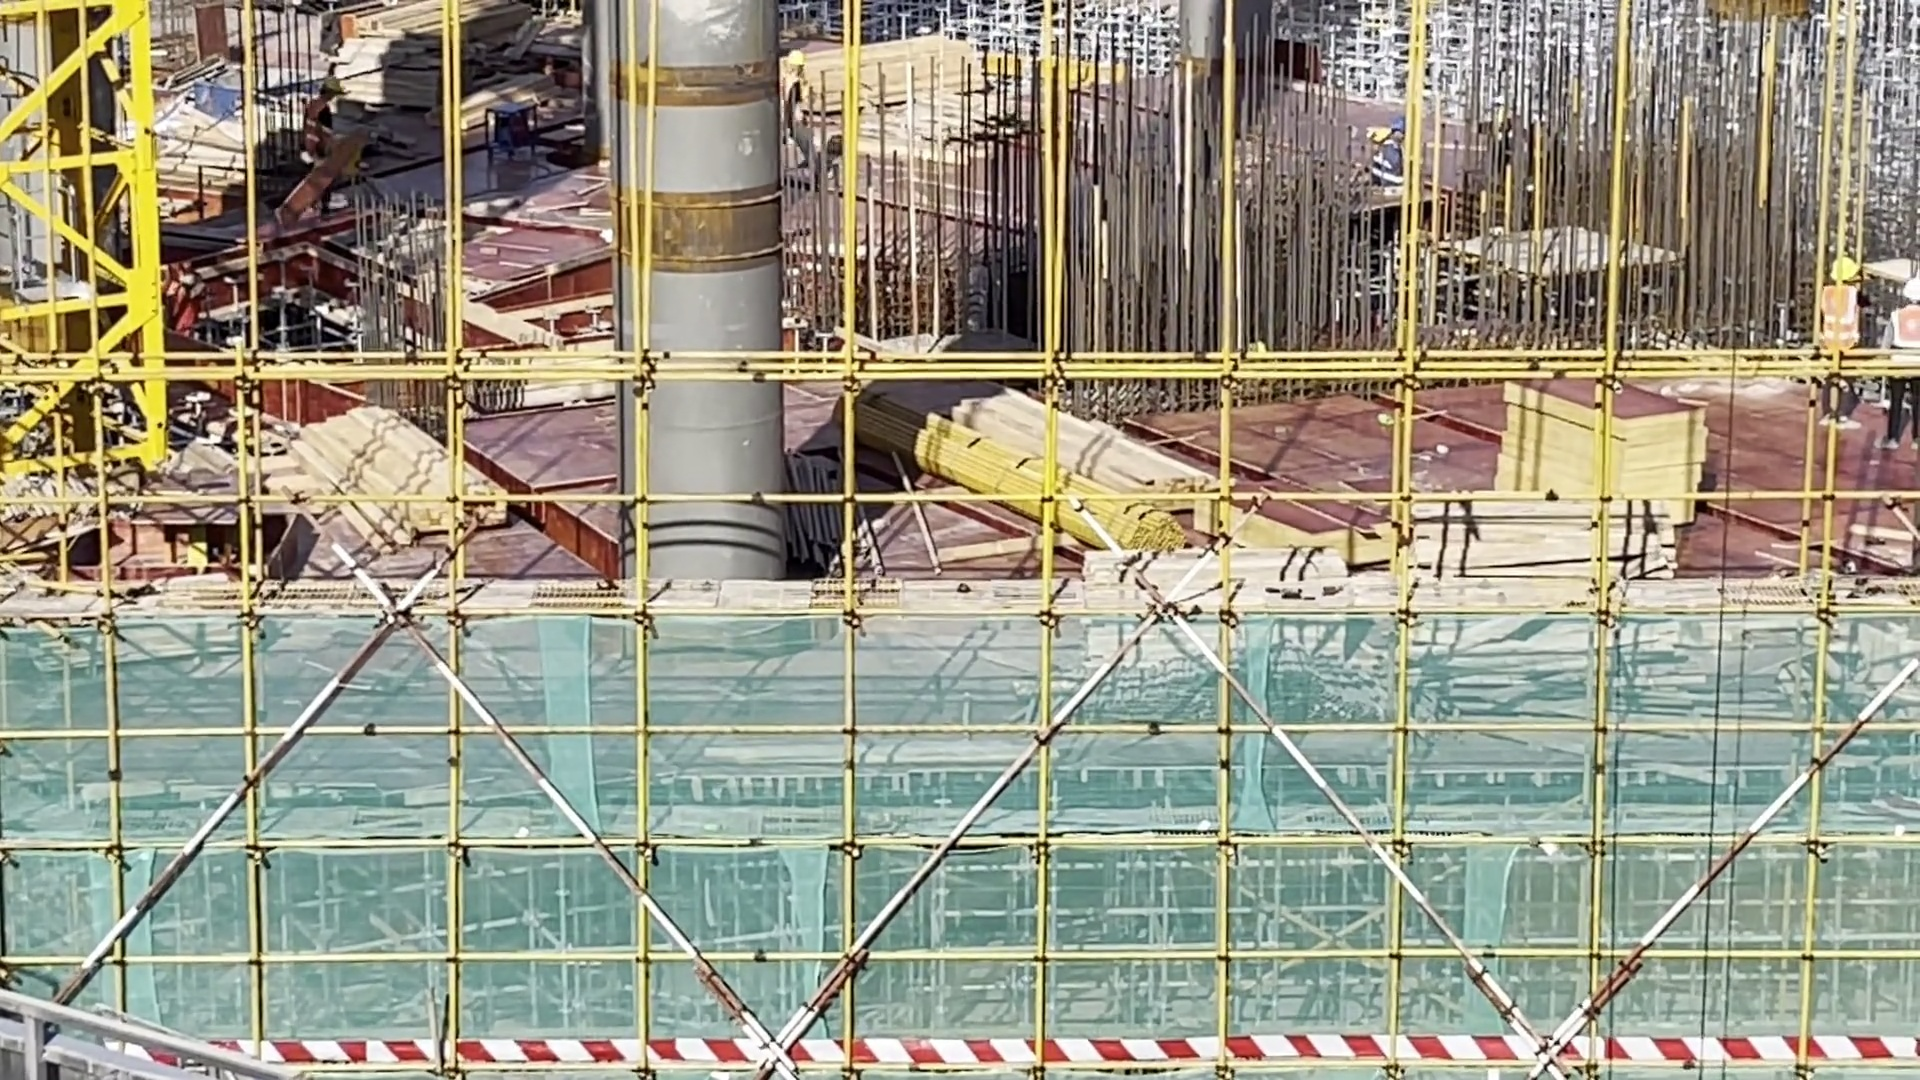board: (1504, 379, 1709, 515)
person: (1815, 254, 1871, 431), (1885, 269, 1920, 445), (296, 76, 344, 188)
vest: (1819, 283, 1861, 350), (1891, 308, 1913, 372)
wood: (932, 399, 1232, 547), (281, 412, 509, 535), (1393, 489, 1677, 581)
